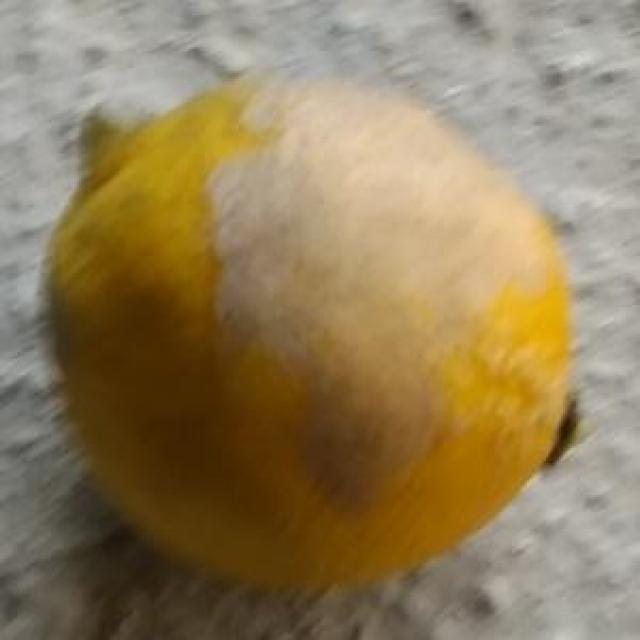lemon: (42, 74, 588, 600)
